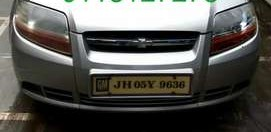JH05Y9636: (109, 77, 191, 94)
